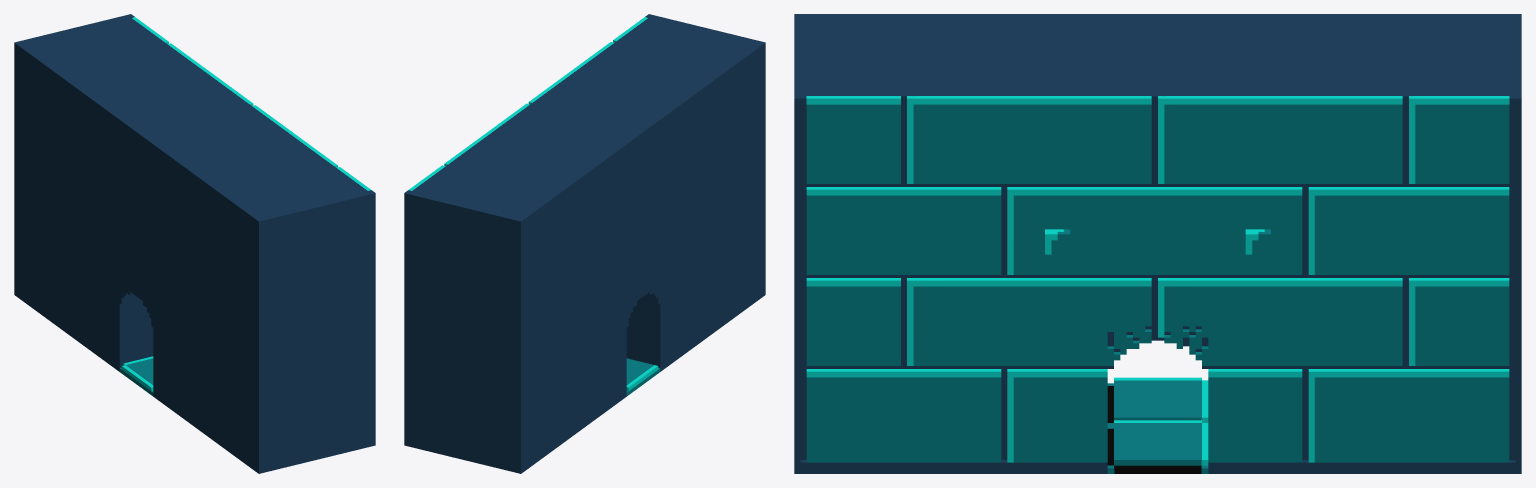
The model's file is WestWallBombed.glb.
3 renders of one model, left to right at view 1: azimuth 30°, elevation 25°; view 2: azimuth 150°, elevation 25°; view 3: azimuth 270°, elevation 25°, orthographic. The views are drawn at different scales.
Visible parts, largest first — view 1: WestWallBombed; view 2: WestWallBombed; view 3: WestWallBombed.
Boxes of the visible parts, x1,y1,x2,y2 form: WestWallBombed: [14, 14, 375, 473]; WestWallBombed: [404, 14, 765, 473]; WestWallBombed: [794, 14, 1521, 473].
Size of what is drawn, in the model's own units: 3.6 by 6.6 by 11.6.
1 material, 1 textured.
